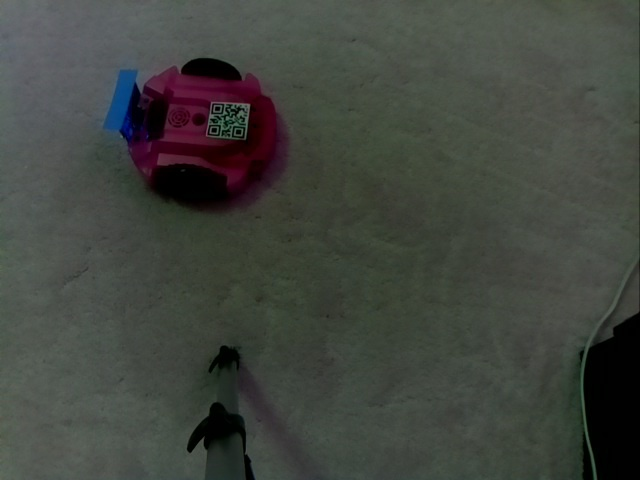chassis: (101, 57, 281, 202)
qr: (203, 96, 253, 142)
